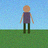person: (20, 5, 33, 33)
